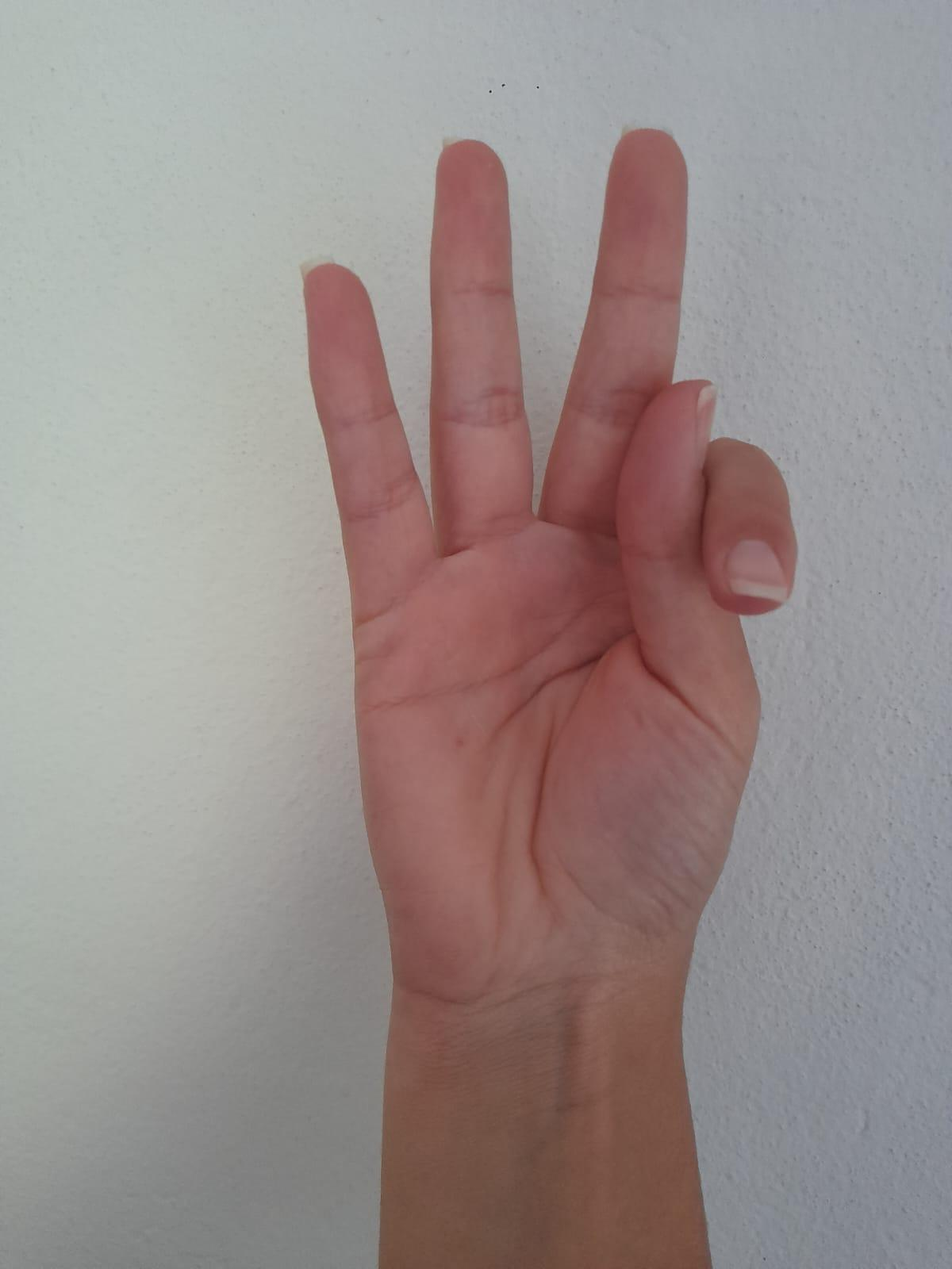T: (294, 111, 809, 912)
